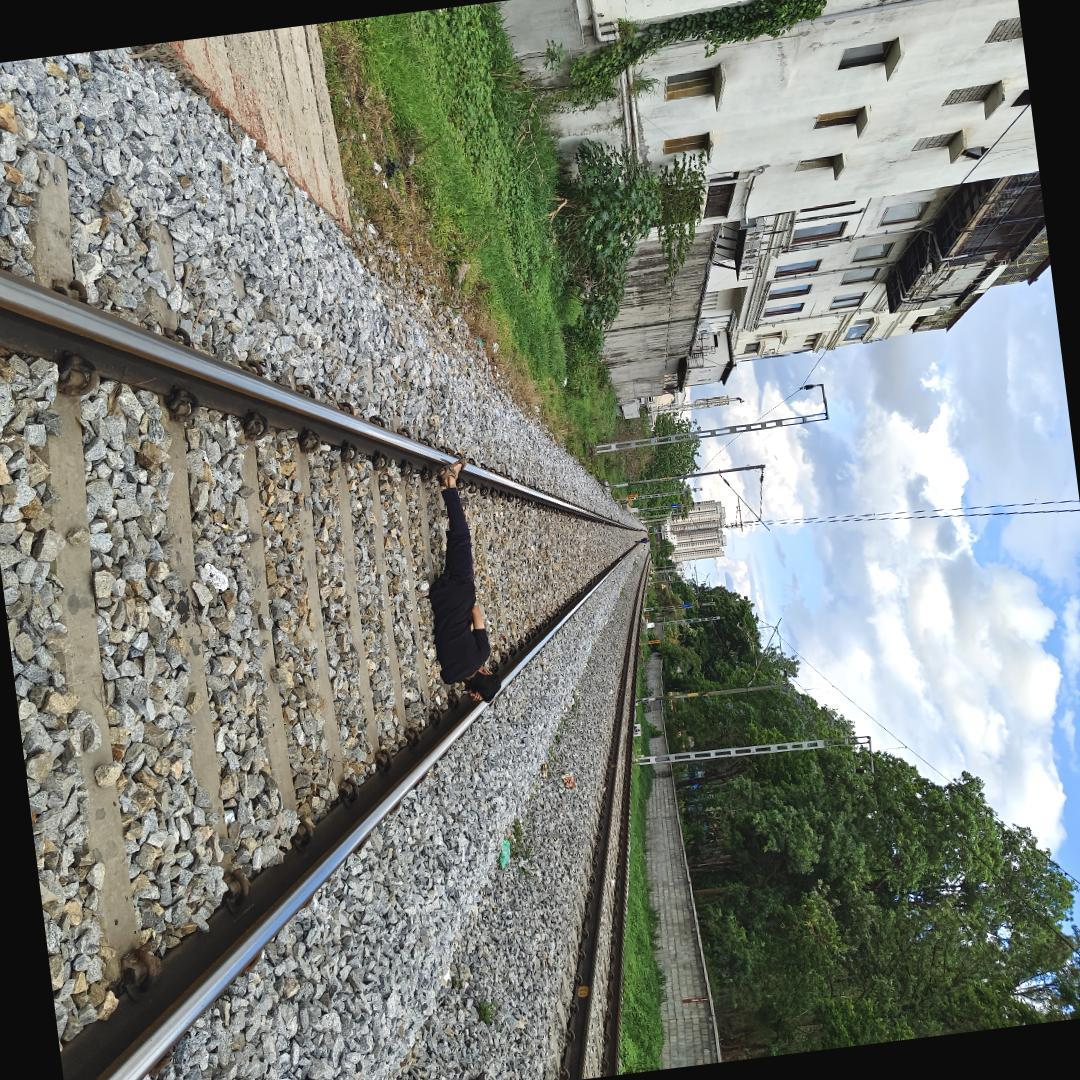sleeping: (399, 447, 516, 718)
